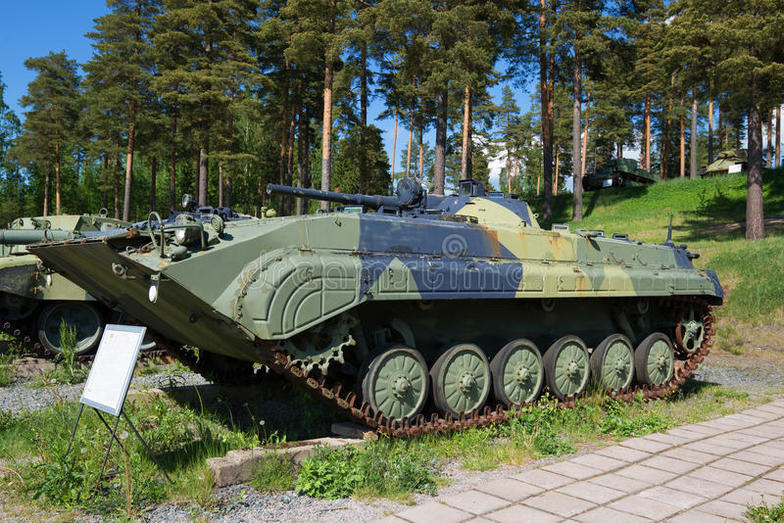bmp: (34, 185, 715, 426)
